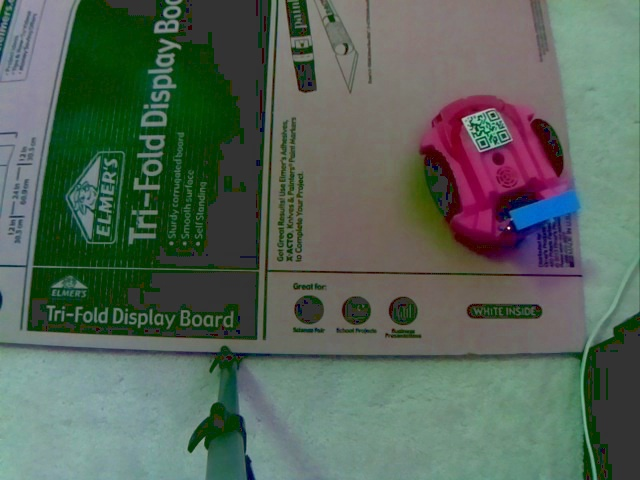board: (496, 181, 583, 235)
chassis: (416, 91, 586, 252)
